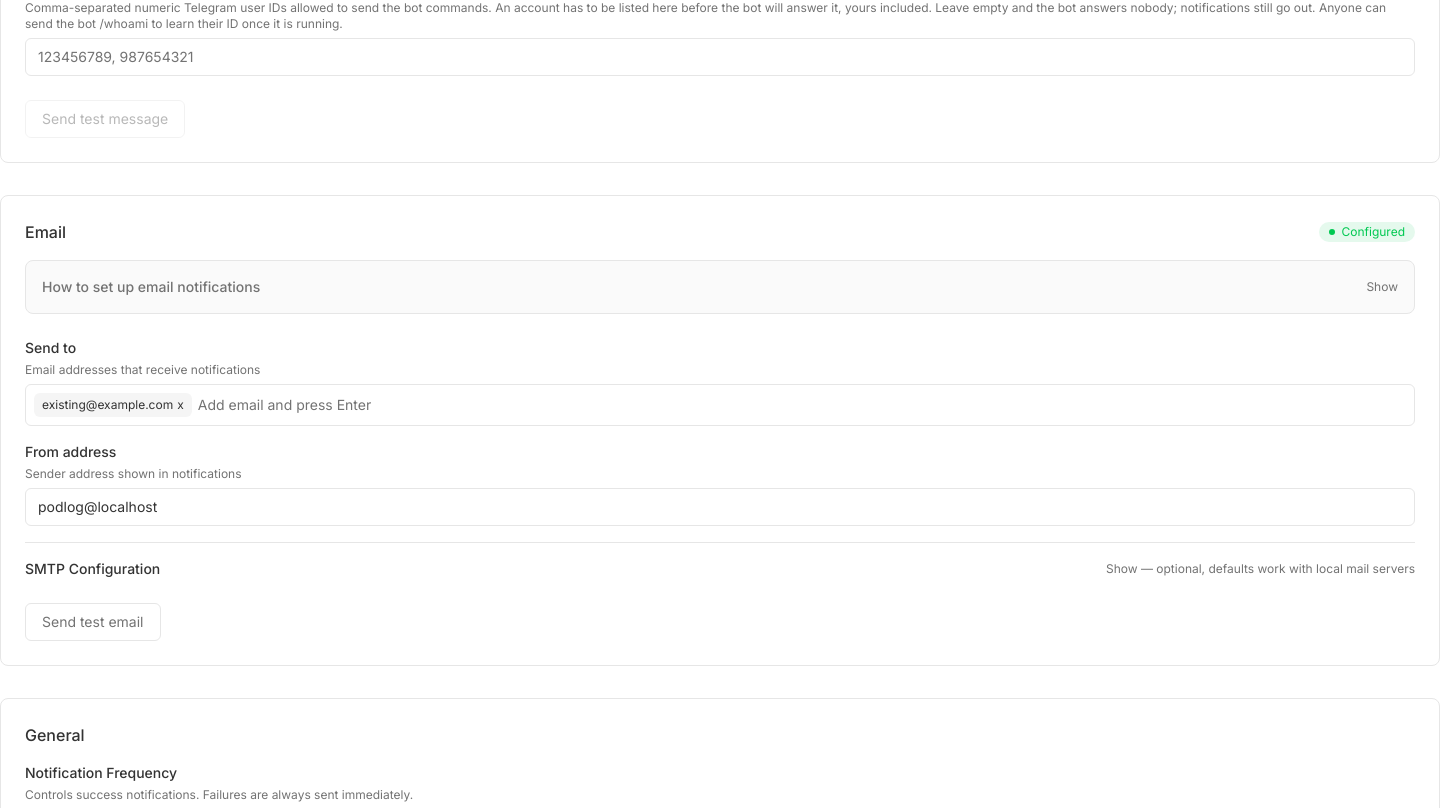
Test case: Email tag input › prevents duplicate emails
This screenshot has width=1440, height=808.
(page scrolled)
Expected: the text "existing@example.com" is shown, 42,397 -> 173,412
Type "existing@example.com" into the field with placeholder "Add email and press Enter" at (802, 405), box 198,391 -> 1406,419
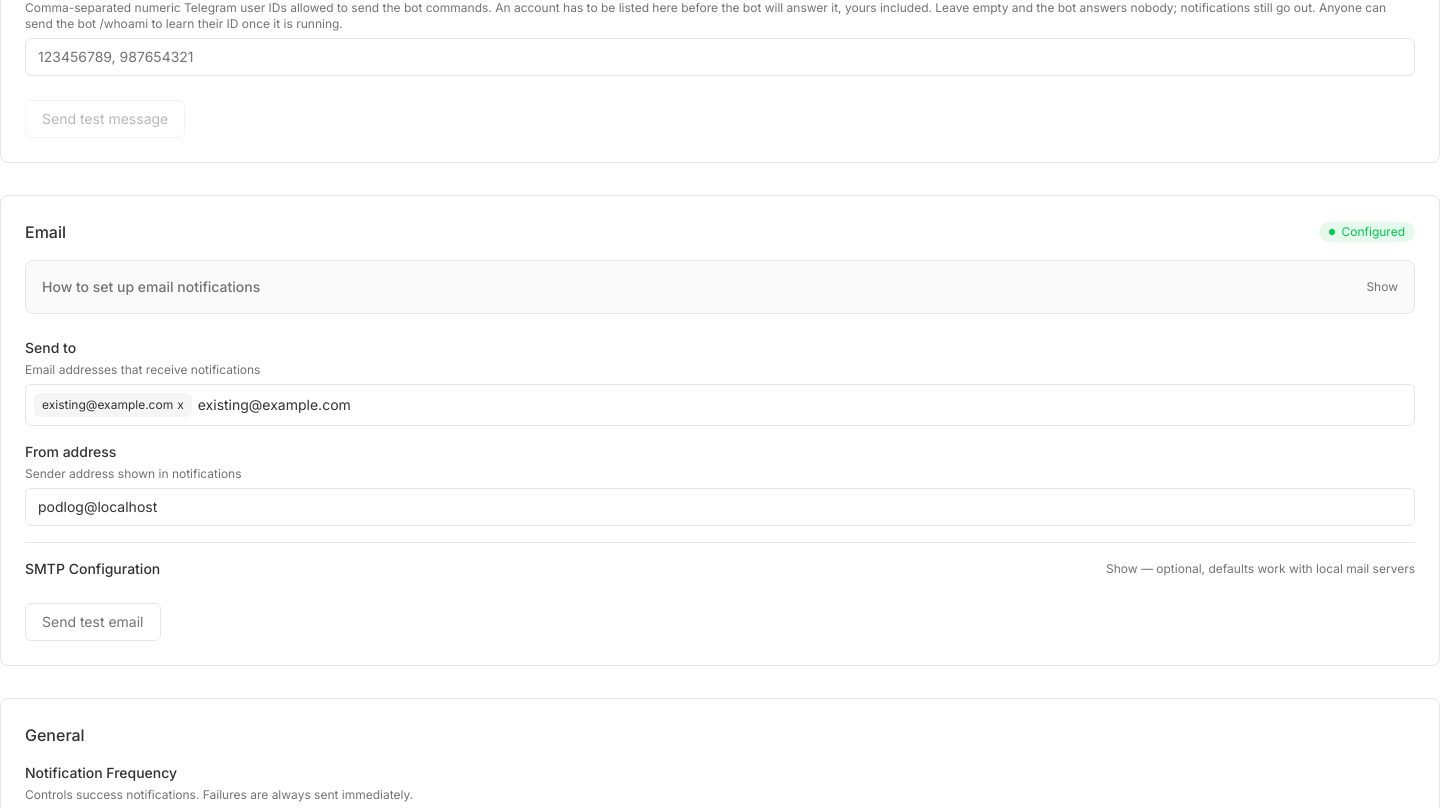
Press Enter in the field with placeholder "Add email and press Enter", box 198,391 -> 1406,419
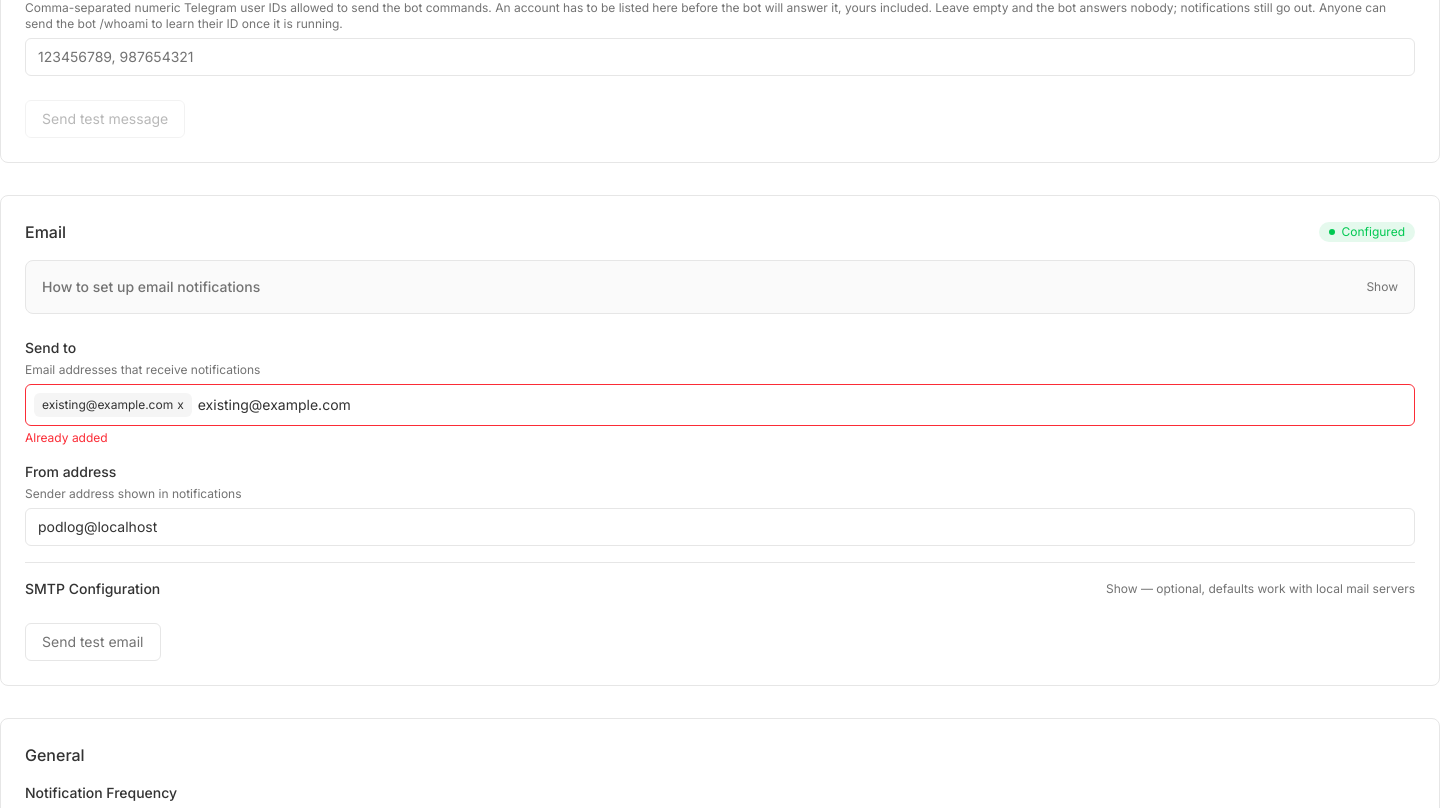
Expected: the text "Already added" is shown, 25,430 -> 108,445
